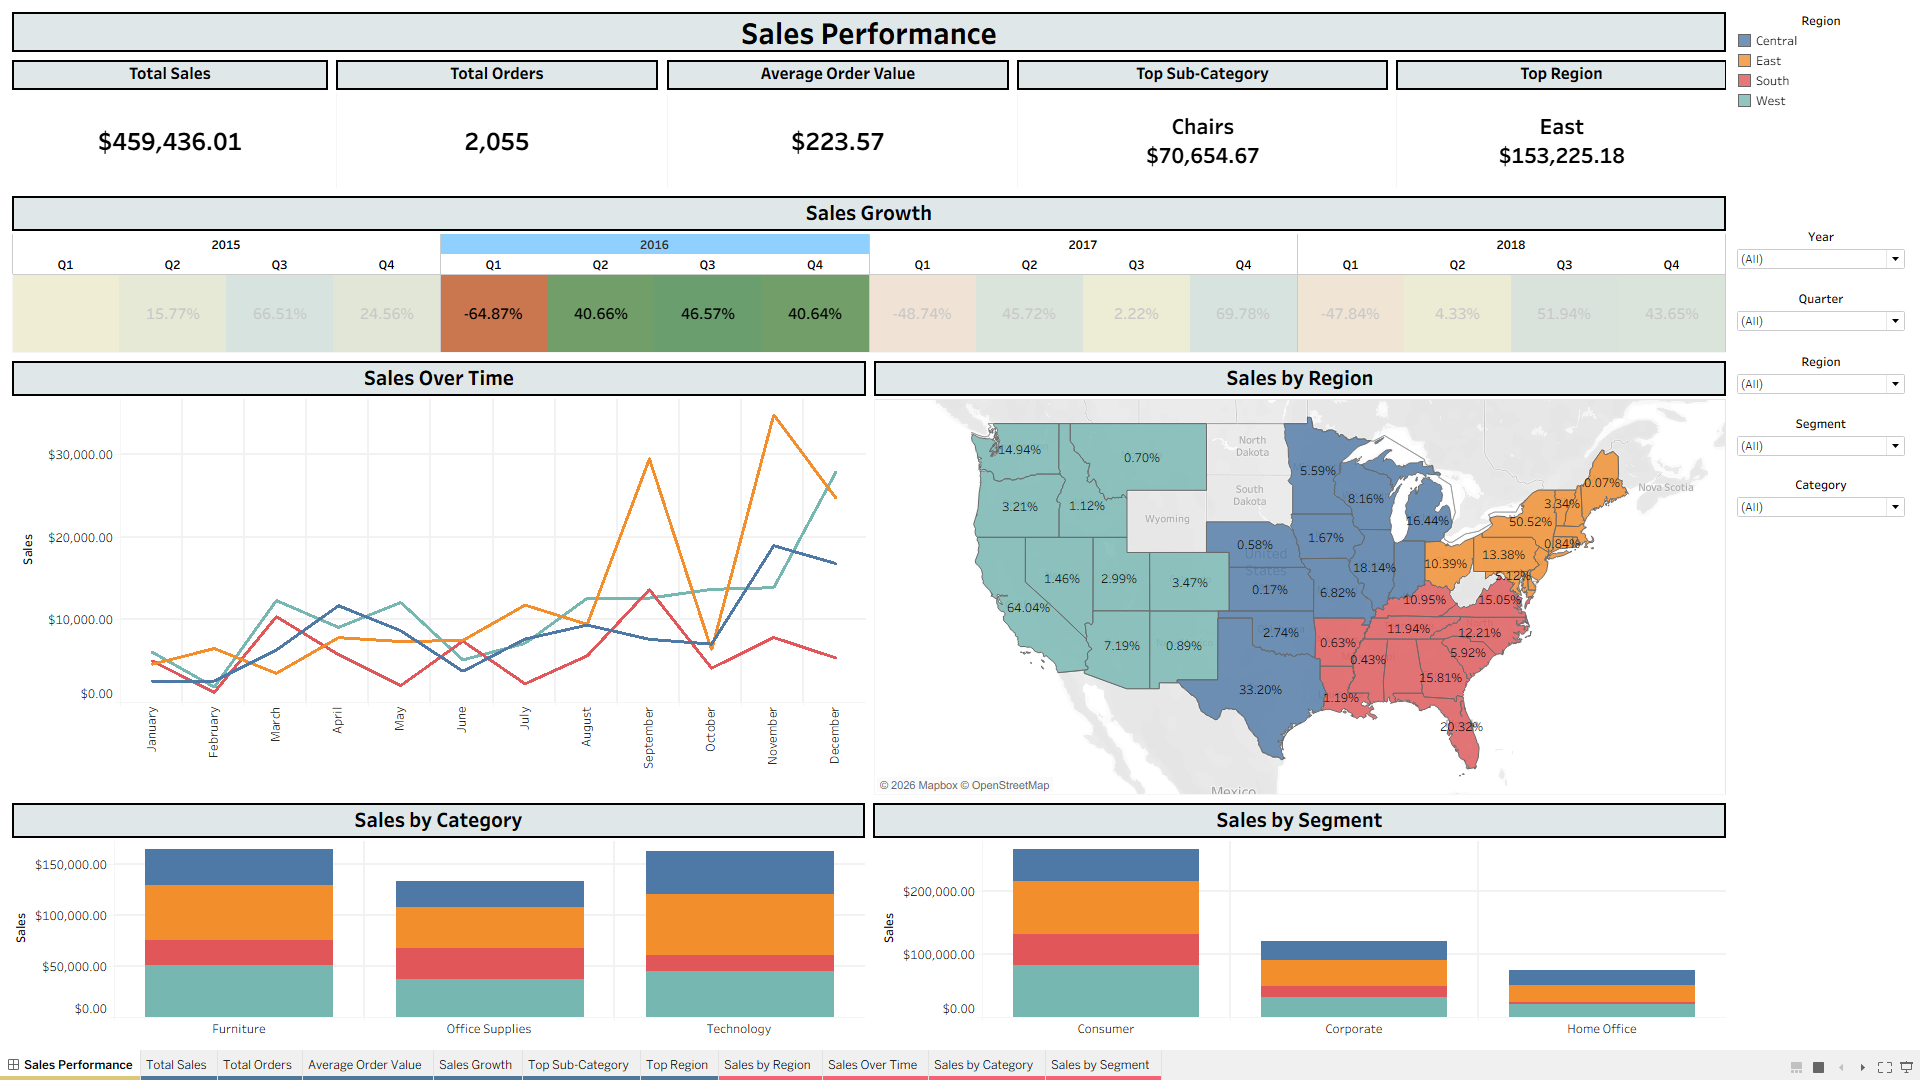

The dashboard page shown, as its layout file describes it:
{"tool":"tableau","page":{"name":"Sales Performance","canvas":[1000,1000],"units":"permille","ordinal":0},"visuals":[{"type":"title","box":[4.3,9.8,896.9,58.5]},{"type":"legend","title":"Sales by Region","param":"[federated.05i0j671lpl5bh1a86nyh1atq0u8].[none:Region:nk]","box":[901.1,9.8,94.6,205.2]},{"type":"worksheet","title":"Total Sales","mark":"Automatic","box":[4.3,68.3,169,127.6]},{"type":"worksheet","title":"Total Orders","mark":"Automatic","box":[173.2,68.3,172,127.6]},{"type":"worksheet","title":"Average Order Value","mark":"Automatic","box":[345.2,68.3,182.4,127.6]},{"type":"worksheet","title":"Top Sub-Category","mark":"Automatic","box":[527.6,68.3,197.2,127.6]},{"type":"worksheet","title":"Top Region","mark":"Automatic","box":[724.8,68.3,176.3,127.6]},{"type":"worksheet","title":"Sales Growth","mark":"Square","cols":["Order Date","Order Date"],"box":[4.3,195.9,896.9,154.1]},{"type":"filter","title":"Sales by Region","param":"[federated.05i0j671lpl5bh1a86nyh1atq0u8].[yr:Order Date:ok]","box":[901.1,214.9,94.6,59]},{"type":"filter","title":"Sales by Region","param":"[federated.05i0j671lpl5bh1a86nyh1atq0u8].[qr:Order Date:ok]","box":[901.1,273.9,94.6,59]},{"type":"filter","title":"Sales by Region","param":"[federated.05i0j671lpl5bh1a86nyh1atq0u8].[none:Region:nk]","box":[901.1,332.9,94.6,75.6]},{"type":"worksheet","title":"Sales Over Time","mark":"Automatic","rows":["Sales"],"cols":["Order Date"],"box":[4.3,350,448.8,413.3]},{"type":"worksheet","title":"Sales by Region","mark":"Multipolygon","box":[453.1,350,448,413.3]},{"type":"filter","title":"Sales by Region","param":"[federated.05i0j671lpl5bh1a86nyh1atq0u8].[none:Segment:nk]","box":[901.1,408.5,94.6,74.4]},{"type":"filter","title":"Sales by Region","param":"[federated.05i0j671lpl5bh1a86nyh1atq0u8].[none:Category:nk]","box":[901.1,482.9,94.6,76.8]},{"type":"blank","box":[901.1,559.8,94.6,430.5]},{"type":"worksheet","title":"Sales by Category","mark":"Automatic","rows":["Sales"],"cols":["Category"],"box":[4.3,763.3,448.3,227]},{"type":"worksheet","title":"Sales by Segment","mark":"Automatic","rows":["Sales"],"cols":["Segment"],"box":[452.6,763.3,448.5,227]}]}

Visuals, with their boxes on the dashboard's canvas, which has no fixed pixel size, in thousandths of its width and height (x1, y1, x2, y2). These are canvas units, not pixel positions in the 1920x1080 screenshot, which may show the page scaled, cropped or inside an application window:
title: [x1=4, y1=10, x2=901, y2=68]
"Sales by Region" legend: [x1=901, y1=10, x2=996, y2=215]
"Total Sales" worksheet: [x1=4, y1=68, x2=173, y2=196]
"Total Orders" worksheet: [x1=173, y1=68, x2=345, y2=196]
"Average Order Value" worksheet: [x1=345, y1=68, x2=528, y2=196]
"Top Sub-Category" worksheet: [x1=528, y1=68, x2=725, y2=196]
"Top Region" worksheet: [x1=725, y1=68, x2=901, y2=196]
"Sales Growth" worksheet (Square marks): [x1=4, y1=196, x2=901, y2=350]
"Sales by Region" filter: [x1=901, y1=215, x2=996, y2=274]
"Sales by Region" filter: [x1=901, y1=274, x2=996, y2=333]
"Sales by Region" filter: [x1=901, y1=333, x2=996, y2=408]
"Sales Over Time" worksheet: [x1=4, y1=350, x2=453, y2=763]
"Sales by Region" worksheet (Multipolygon marks): [x1=453, y1=350, x2=901, y2=763]
"Sales by Region" filter: [x1=901, y1=408, x2=996, y2=483]
"Sales by Region" filter: [x1=901, y1=483, x2=996, y2=560]
blank: [x1=901, y1=560, x2=996, y2=990]
"Sales by Category" worksheet: [x1=4, y1=763, x2=453, y2=990]
"Sales by Segment" worksheet: [x1=453, y1=763, x2=901, y2=990]
